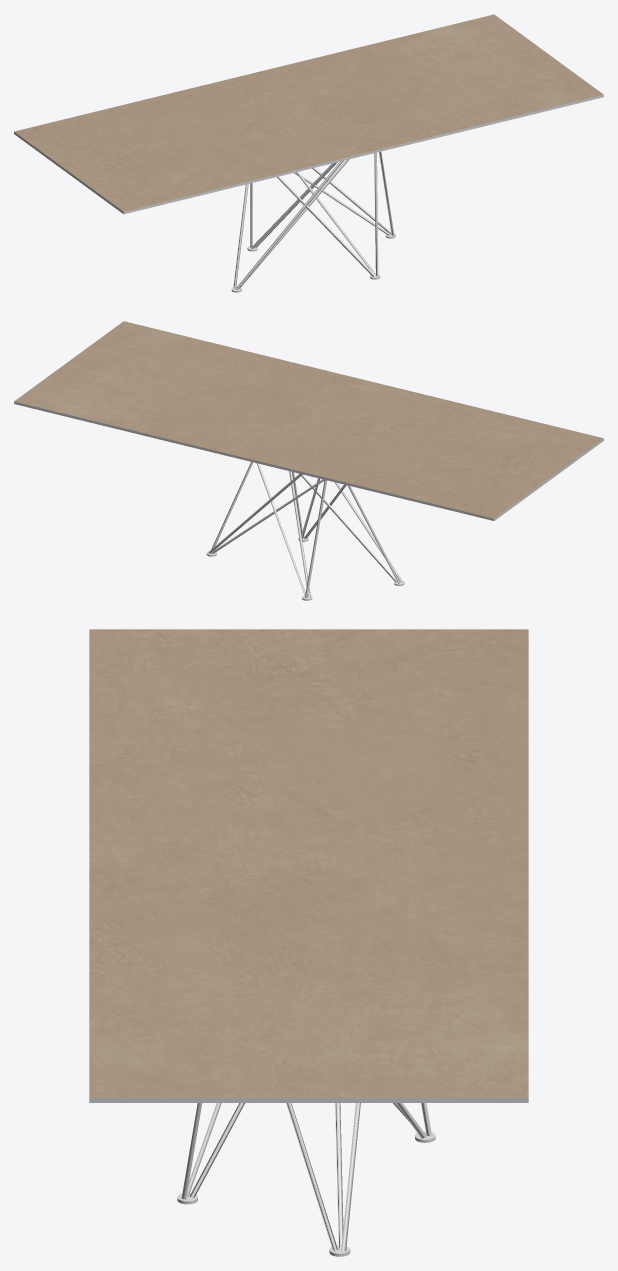
Rendered from Stella14.glb.
The picture shows the model from 3 angles, top to bottom: view 1: azimuth 30°, elevation 25°; view 2: azimuth 150°, elevation 25°; view 3: azimuth 270°, elevation 25°; orthographic projection. The views are drawn at different scales.
Visible parts, largest first — view 1: Cube.001, Plane.018; view 2: Cube.001, Plane.018; view 3: Cube.001, Plane.018.
Boxes of the visible parts, x1=… form: Cube.001: x1=14, y1=14, x2=603, y2=214; Plane.018: x1=233, y1=151, x2=394, y2=289; Cube.001: x1=14, y1=321, x2=603, y2=520; Plane.018: x1=208, y1=462, x2=402, y2=598; Cube.001: x1=89, y1=629, x2=528, y2=1102; Plane.018: x1=181, y1=1103, x2=431, y2=1251.
Size of the model in its own units: 2.4 by 0.7201 by 0.95.
4 materials, 3 textured.
